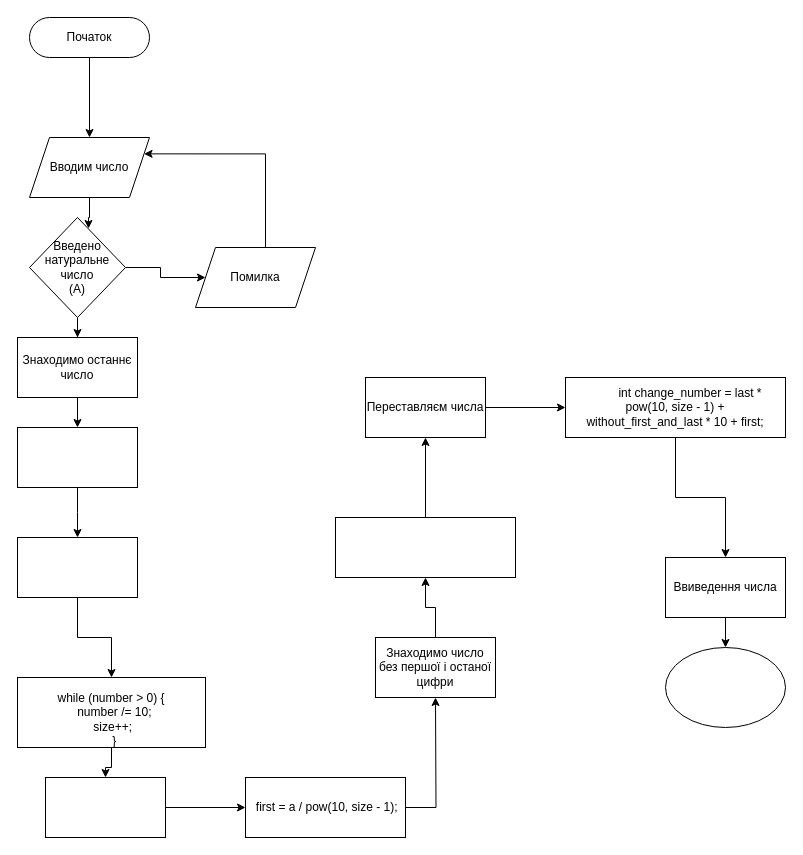
Some shapes in this 803 by 855 pixel diagram are drawn without their labels. The shapes that lost their labels are listed below. From the top down, each one's centre as x and y in pixels, then its label:
At point (77, 457): "last=A%10".
At point (77, 567): "Знаходим кількість цифр в натуральному числі".
At point (425, 547): "int without_first_and_last = (a - first * pow(10, size - 1)) / 10;".
At point (725, 687): "Кінець".
At point (105, 807): "Знаходим перше число".
